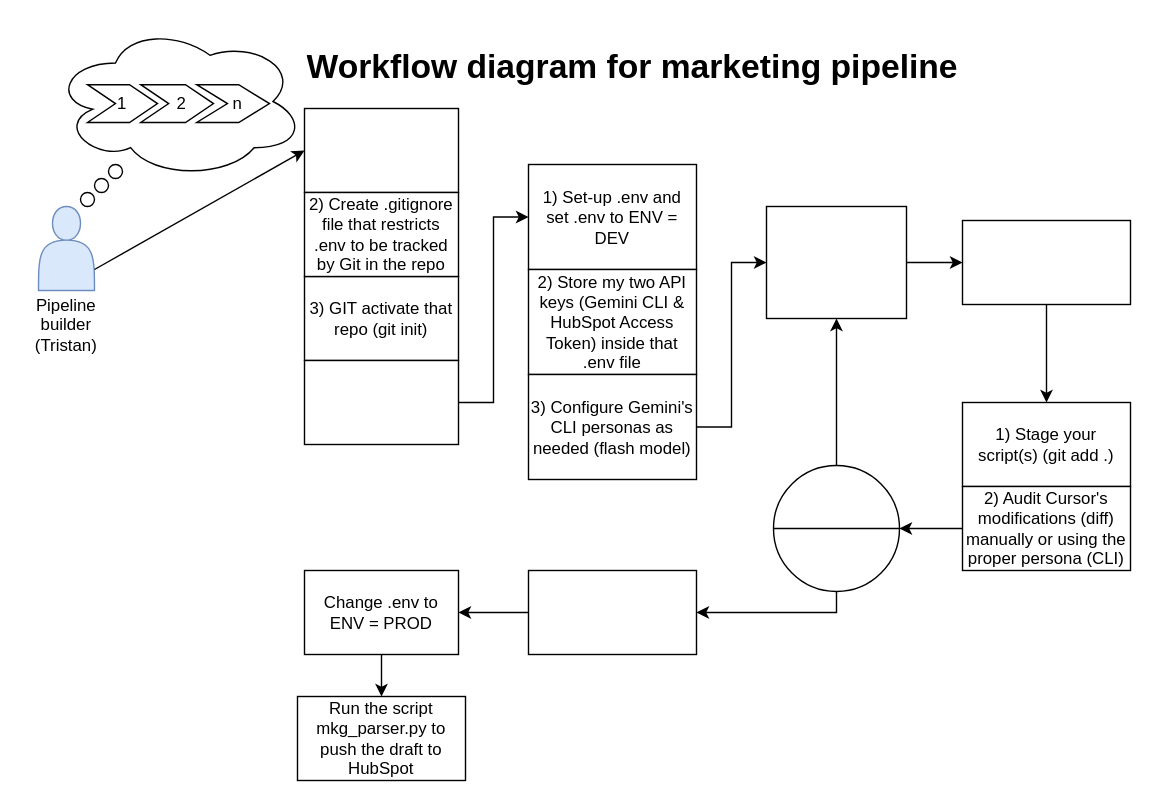
Some shapes in this 1155 by 805 pixel diagram are drawn without their labels. The shapes that lost their labels are listed below. From the top down, each one's centre as x and y in pixels, then its label:
At [380,149]: "1) Set-up a local repo".
At [835,261]: "Use Cursor AI to write one script per task e.g. mkg_scraping.py or mkg_parser.py".
At [1045,261]: "Test run script(s) and receive a local output.json".
At [380,401]: "4) Push that repo to GitHub".
At [835,528]: "Review failed Review passed".
At [611,611]: "Commit & push to GitHub".
